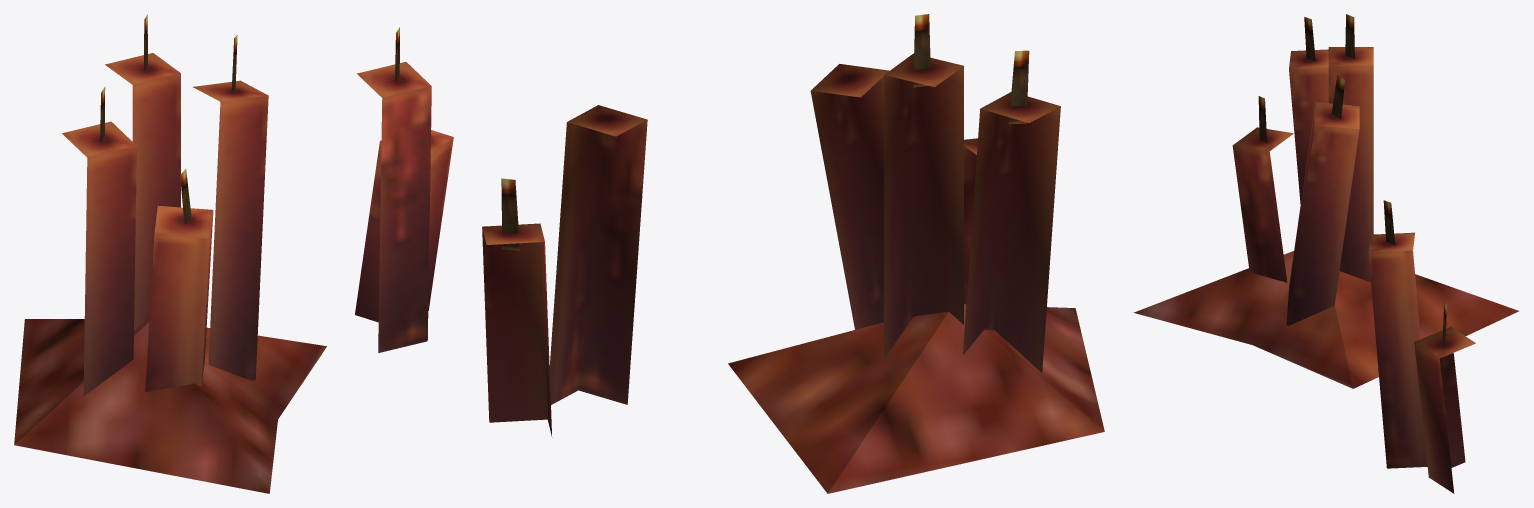
The model's file is fb_yanwanggumu_lazhu.FBX.
The picture shows the model from 3 angles, left to right: view 1: azimuth 30°, elevation 25°; view 2: azimuth 150°, elevation 25°; view 3: azimuth 270°, elevation 25°; orthographic projection. The views are drawn at different scales.
Parts seen in each view (by area): view 1: fb_yanwanggumu_lazhu; view 2: fb_yanwanggumu_lazhu; view 3: fb_yanwanggumu_lazhu.
Boxes of the visible parts, x1=… form: fb_yanwanggumu_lazhu: x1=14, y1=14, x2=453, y2=493; fb_yanwanggumu_lazhu: x1=482, y1=14, x2=1104, y2=493; fb_yanwanggumu_lazhu: x1=1133, y1=14, x2=1519, y2=493.
Size of the model in its own units: 103 by 81.29 by 83.18.
Materials: 1 (1 with a texture image).
